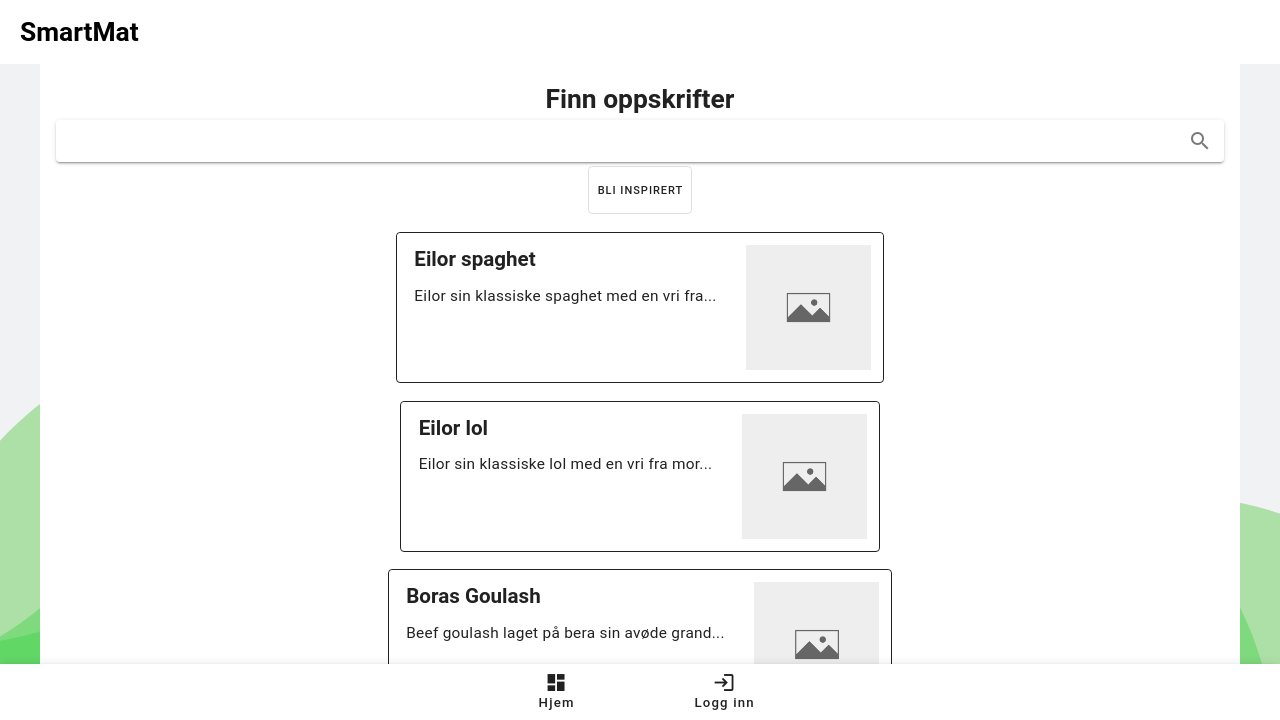
Scenario: Test recipe list page › Test search filter only returns matching recipes
The width and height of the screenshot is (1280, 720).
Type "E" into the element with test id "search-input" at (640, 141), box [56, 120, 1224, 162]
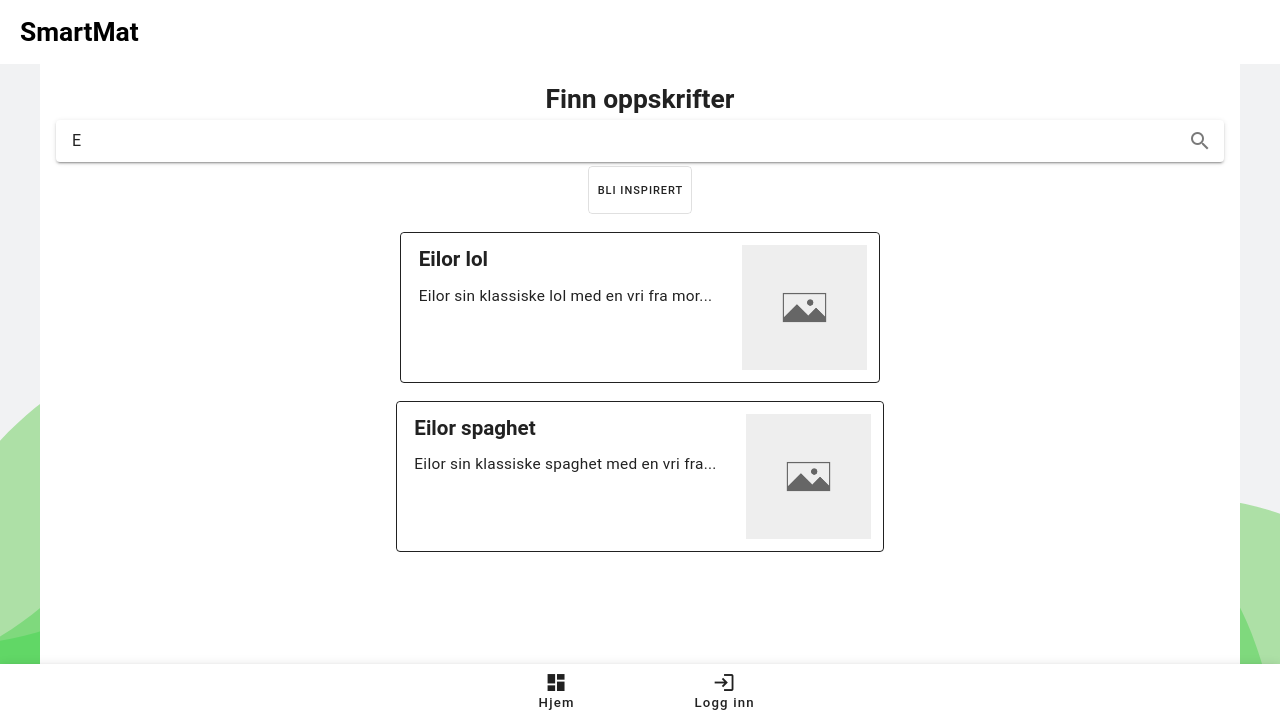
Expected: the element with test id "7e023dcc-b45a-40b1-b1c4-8f17a95b17bb-card" is shown, [396, 401, 885, 552]
Now the element with test id "f0fcf7e4-98e7-47b1-88e6-73dd0f41e48c-card" is gone
